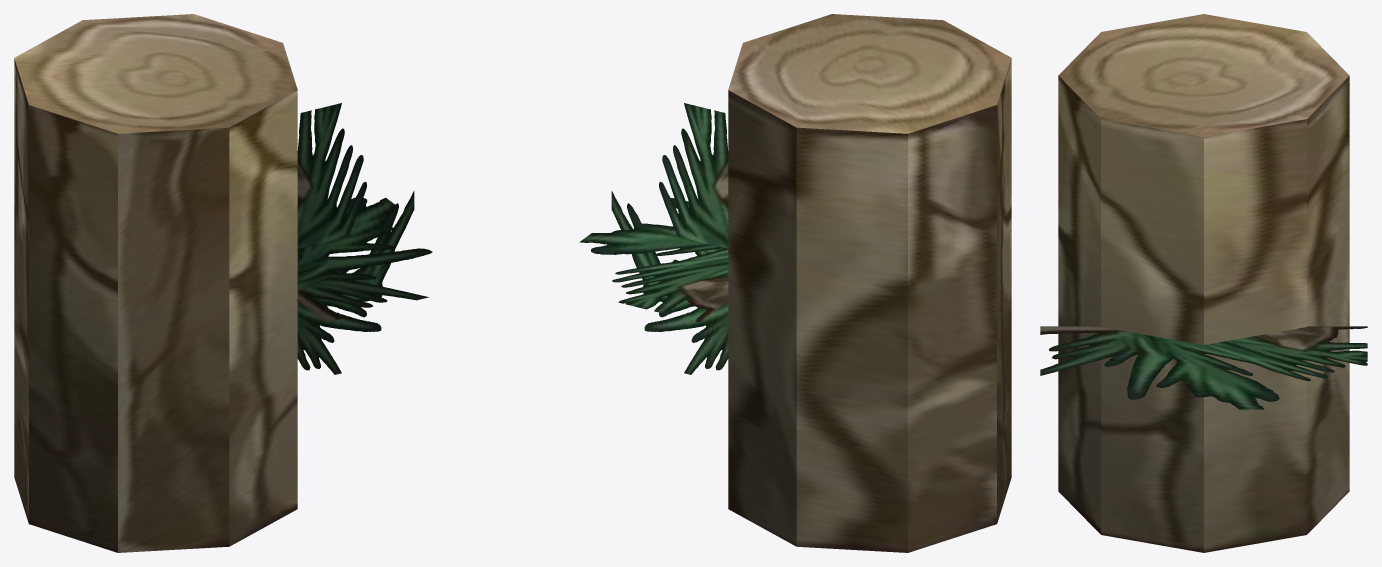
Rendered from oak_drop.fbx.
The picture shows the model from 3 angles, left to right: view 1: azimuth 30°, elevation 25°; view 2: azimuth 150°, elevation 25°; view 3: azimuth 270°, elevation 25°; orthographic projection.
Parts seen in each view (by area): view 1: oak_drop; view 2: oak_drop; view 3: oak_drop.
Part boxes in pixels (box(x1,y1,x2,y2)): oak_drop: box(14, 14, 432, 552); oak_drop: box(579, 14, 1011, 552); oak_drop: box(1040, 14, 1367, 552).
Bounding box in the file's own units: 305 × 315 × 225.
